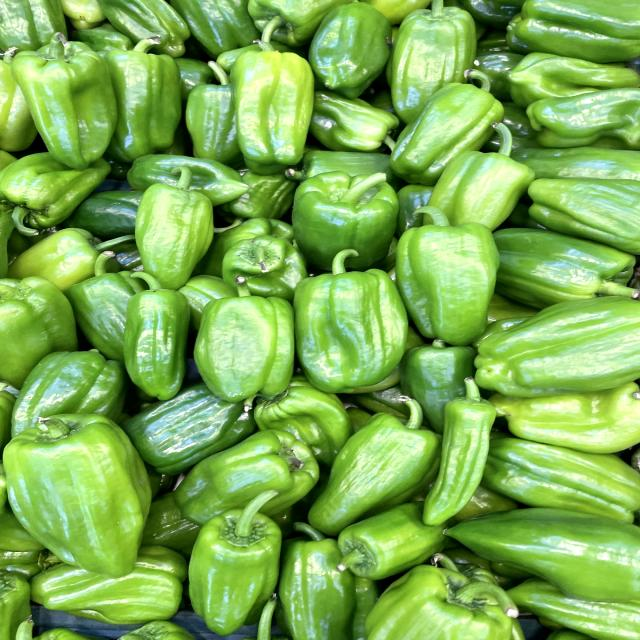bell pepper: (0, 407, 168, 580), (173, 484, 308, 636), (291, 243, 413, 400), (218, 12, 330, 176), (383, 207, 509, 345), (382, 66, 518, 183), (8, 30, 123, 164), (127, 165, 229, 292)
